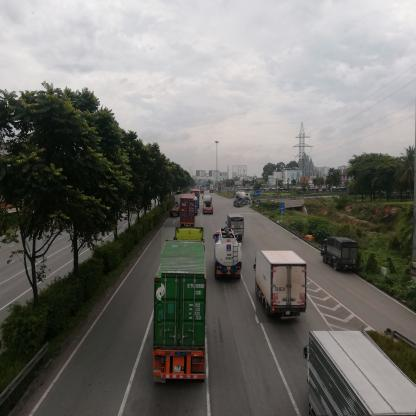container: (162, 228, 206, 384), (181, 195, 195, 226), (172, 195, 181, 213), (205, 194, 213, 212)
truck: (310, 332, 416, 416), (257, 252, 308, 324), (217, 233, 242, 281), (229, 215, 245, 236), (237, 193, 251, 209)
